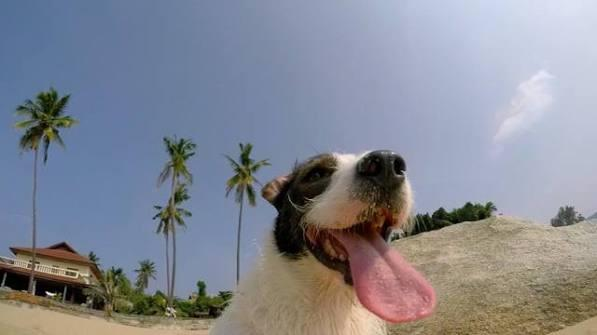adult_dog: (212, 150, 437, 335)
